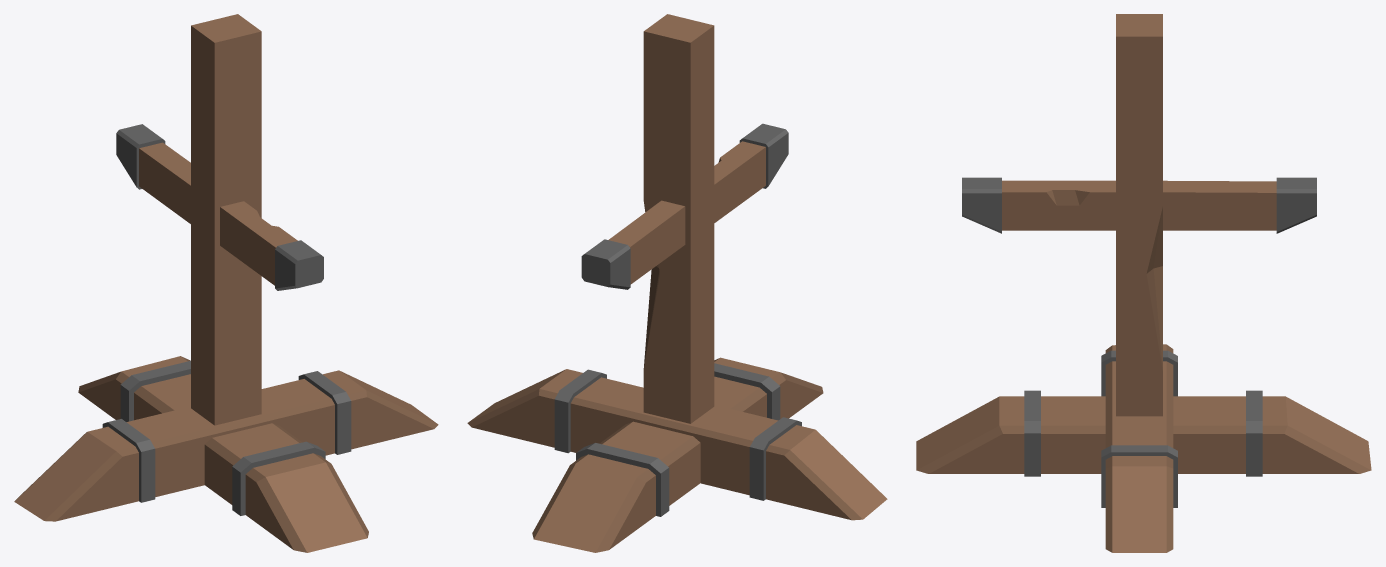
The model's file is HelmetStand_01.fbx.
The picture shows the model from 3 angles, left to right: view 1: azimuth 30°, elevation 25°; view 2: azimuth 150°, elevation 25°; view 3: azimuth 270°, elevation 25°; orthographic projection.
Visible parts, largest first — view 1: HelmetStand_01; view 2: HelmetStand_01; view 3: HelmetStand_01.
Boxes of the visible parts, left/top/right/bottom form: HelmetStand_01: left=14, top=14, right=438, bottom=552; HelmetStand_01: left=467, top=14, right=887, bottom=552; HelmetStand_01: left=916, top=14, right=1371, bottom=552.
Bounding box in the file's own units: 53.79 × 56.25 × 53.79.
Materials: 2 (2 with a texture image).
